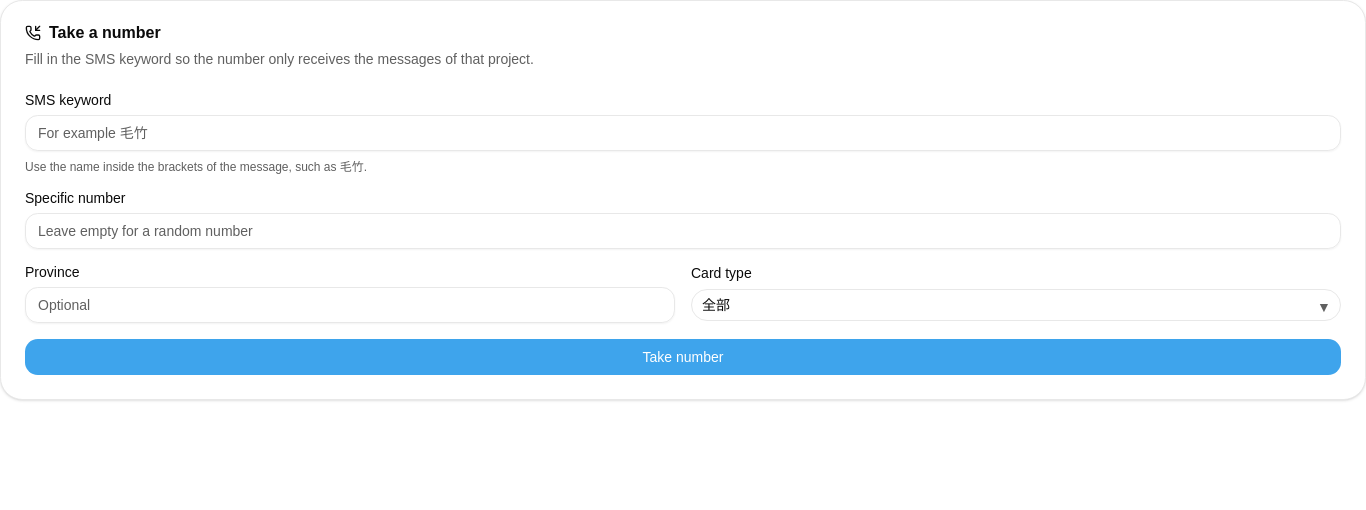
Test: a vendor refusal is shown and hands nothing to the page
Click the button "Take number" at [683, 357], box 25,339 -> 1341,375
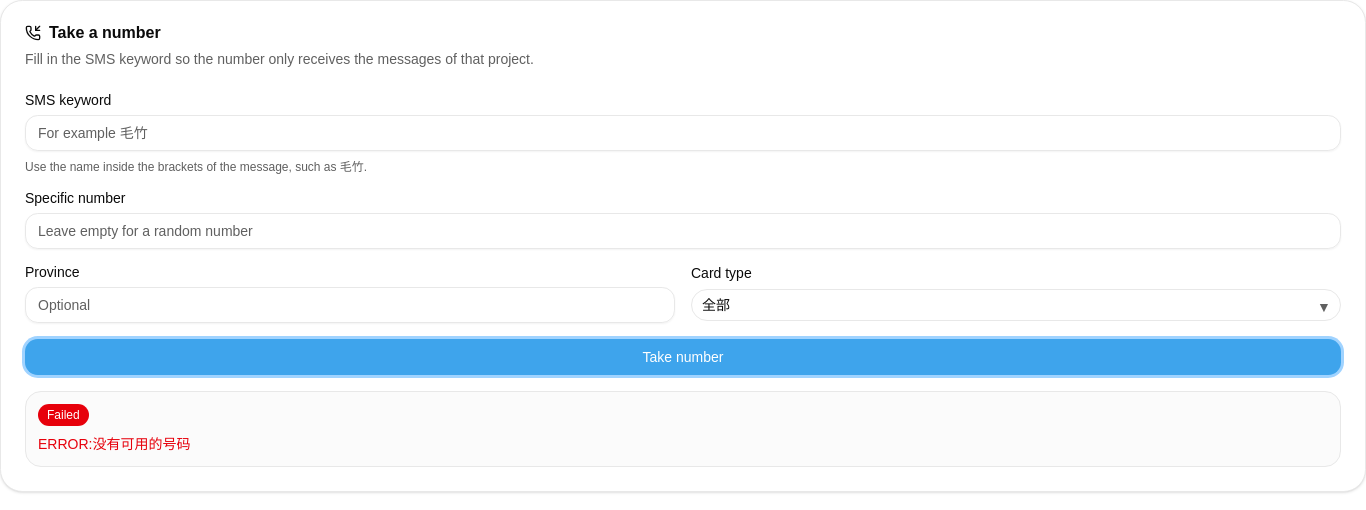
Now the text "ERROR:没有可用的号码" is shown, box 38,436 -> 190,452
